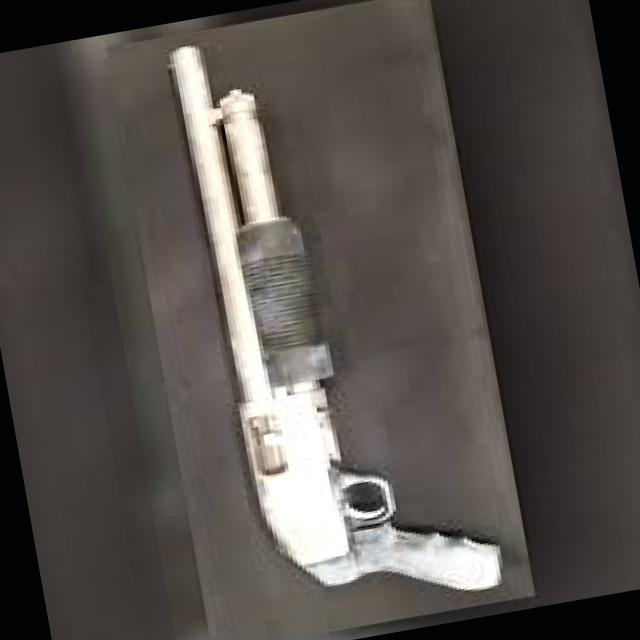long weapon: (127, 24, 517, 633)
